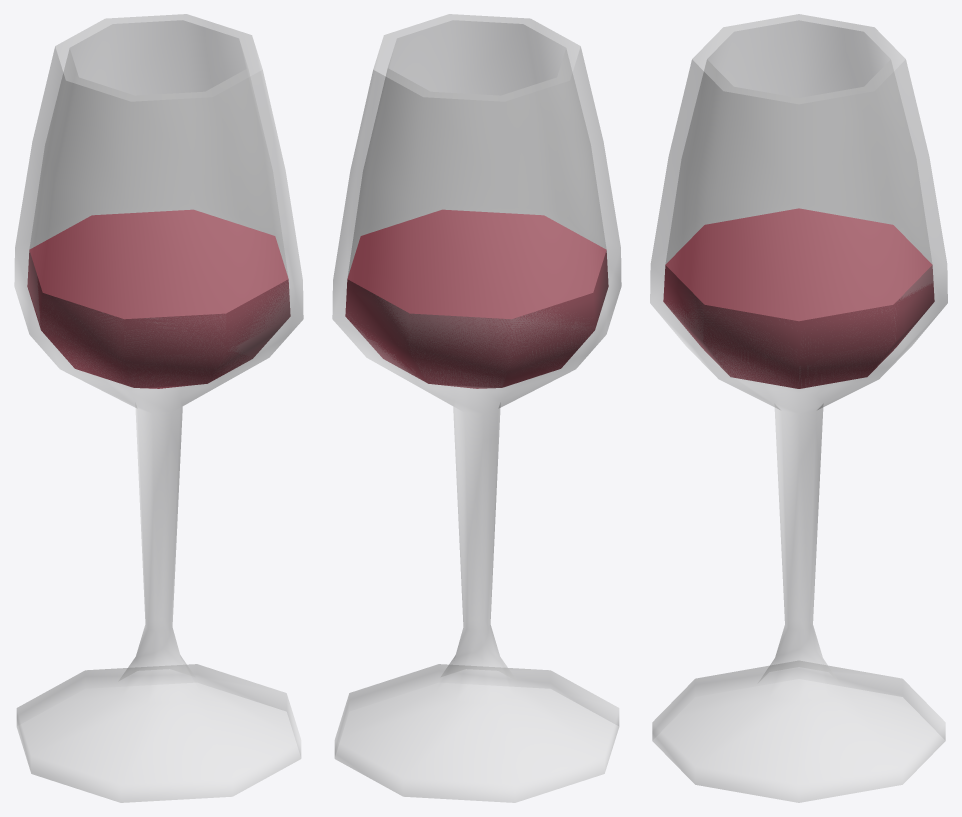
File: consumables-drinks-glassofwine_v1.glb
The picture shows the model from 3 angles, left to right: view 1: azimuth 30°, elevation 25°; view 2: azimuth 150°, elevation 25°; view 3: azimuth 270°, elevation 25°; orthographic projection.
Visible parts, largest first — view 1: GlassOfWine_transp, GlassOfWine_base; view 2: GlassOfWine_transp, GlassOfWine_base; view 3: GlassOfWine_transp, GlassOfWine_base.
Boxes of the visible parts, <box> form: GlassOfWine_transp: <box>14,14,303,802</box>; GlassOfWine_base: <box>27,209,290,388</box>; GlassOfWine_transp: <box>332,14,621,802</box>; GlassOfWine_base: <box>345,209,608,388</box>; GlassOfWine_transp: <box>650,14,947,802</box>; GlassOfWine_base: <box>663,208,934,388</box>.
Bounding box in the file's own units: 0.1107 × 0.2795 × 0.1107.
